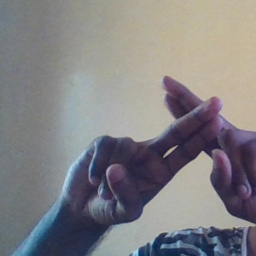F: (111, 70, 255, 201)
